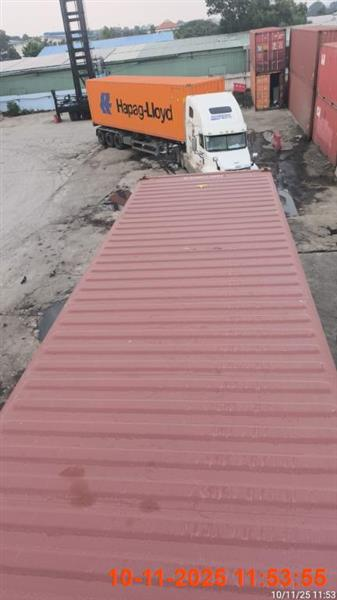hole: (1, 167, 335, 599), (0, 168, 335, 598), (84, 74, 253, 173)
